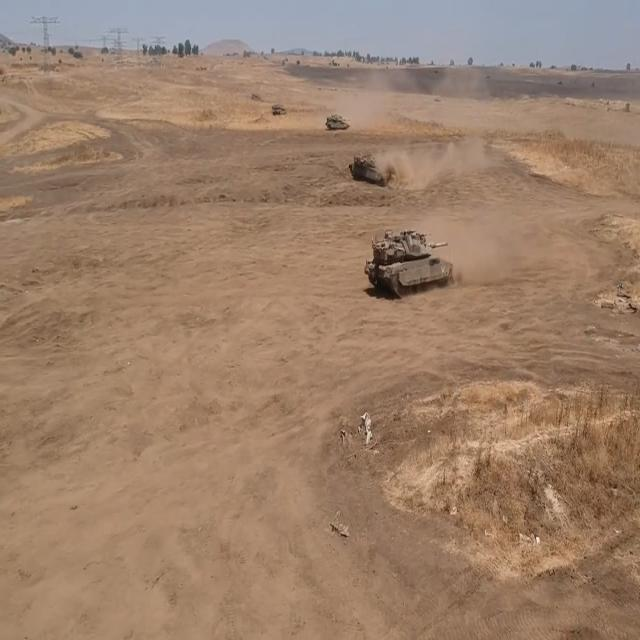tank: (360, 229, 459, 292), (346, 146, 392, 181), (325, 107, 351, 132), (272, 106, 288, 120)
